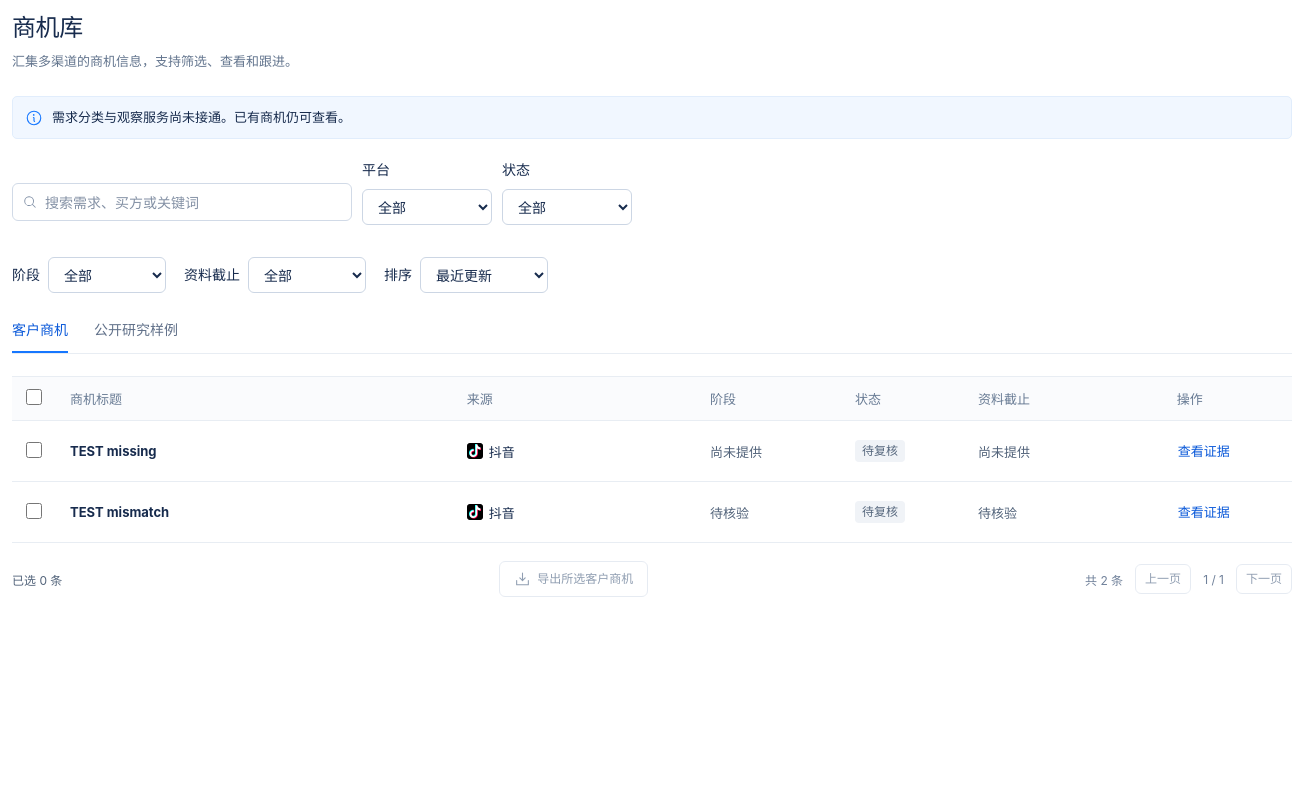
Test: P10 library columns and interactive filters › keeps missing fields and version mismatches visible and independently filterable
This screenshot has width=1304, height=812.
Expected: the text "TEST missing" is shown, [70,443,156,459]
Expected: the text "尚未提供" is shown 2 times, [710,444,762,460]; [978,444,1030,460]
Select "尚未提供" in the dropdown named "筛选资料截止" at (307, 275), box [248,257,366,293]
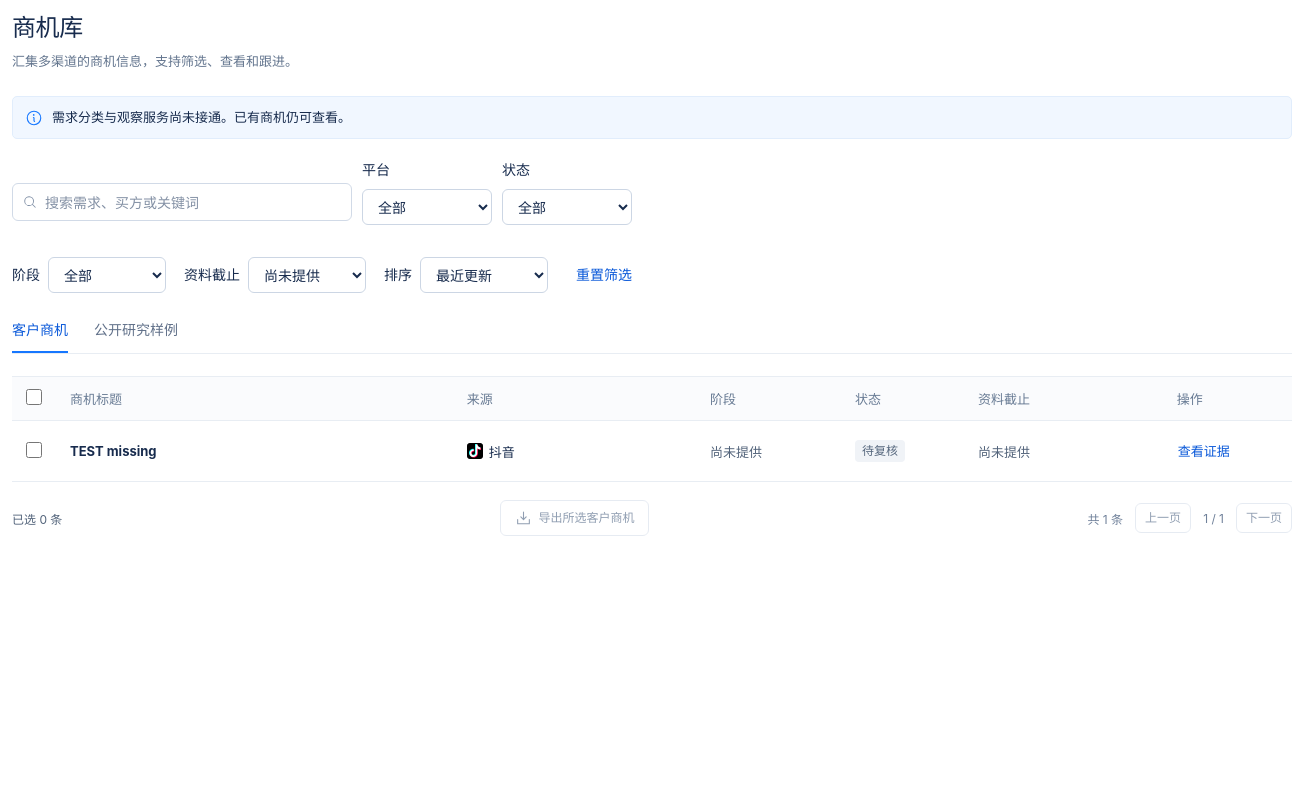
Expected: the text "TEST mismatch" is gone
Select "待核验" in the dropdown named "筛选资料截止" at (307, 275), box [248,257,366,293]
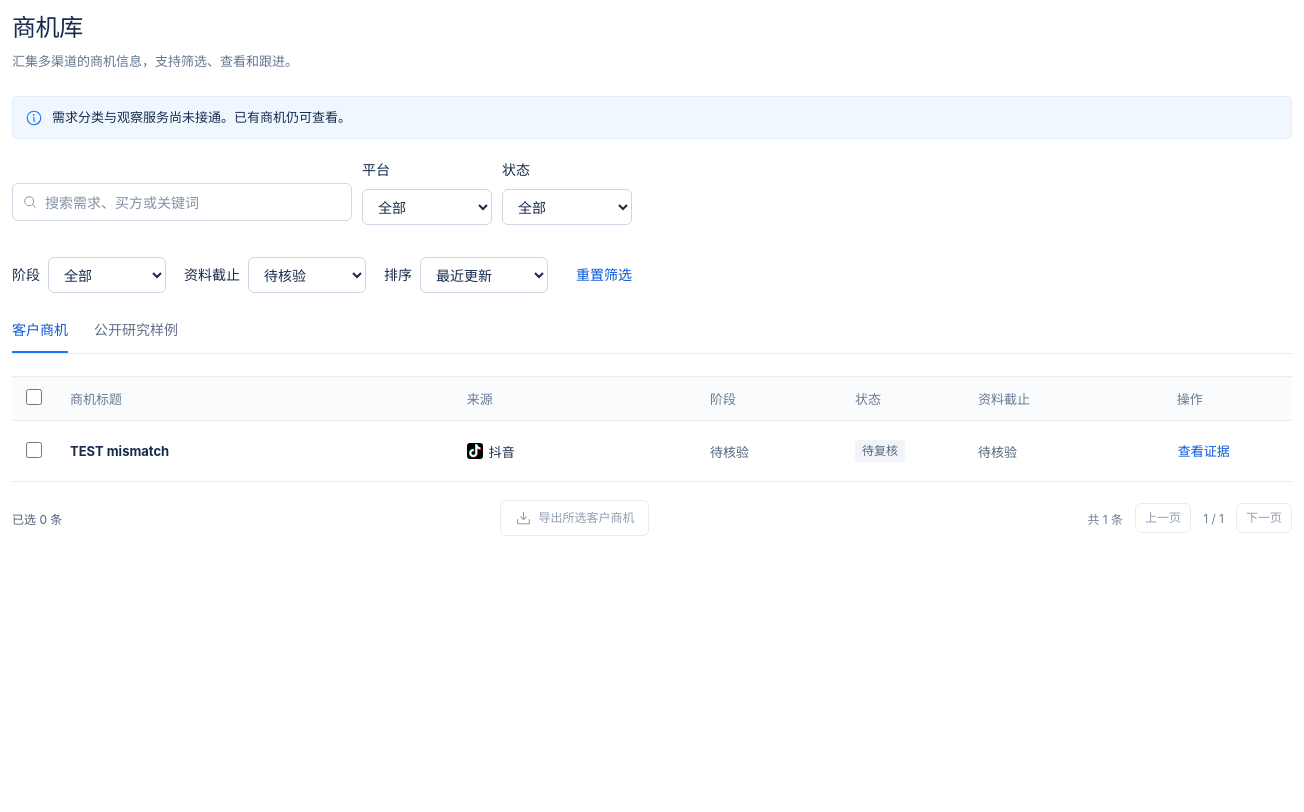
Expected: the text "TEST mismatch" is shown, [70,443,169,459]
Expected: the text "TEST missing" is gone
